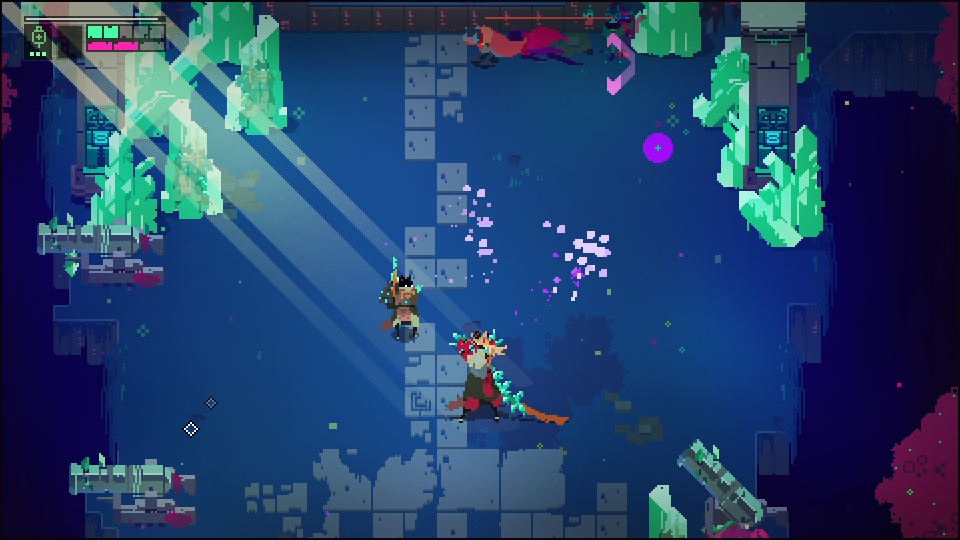hanged_man: (444, 323, 529, 418)
hanged_shot: (642, 133, 671, 163)
player: (455, 19, 518, 62)
